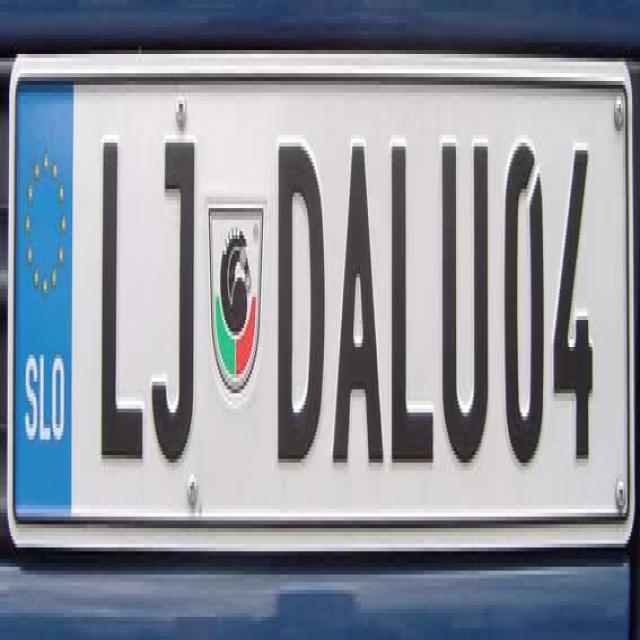EU: (7, 42, 640, 559)
Slovenie: (10, 58, 81, 526)
